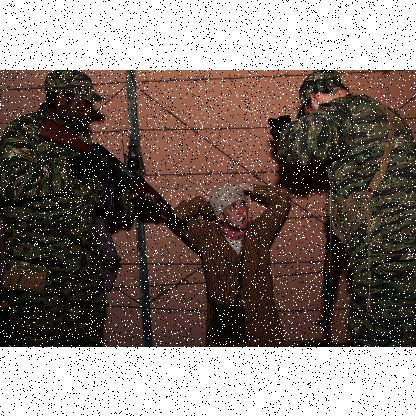gun: (38, 114, 186, 228)
